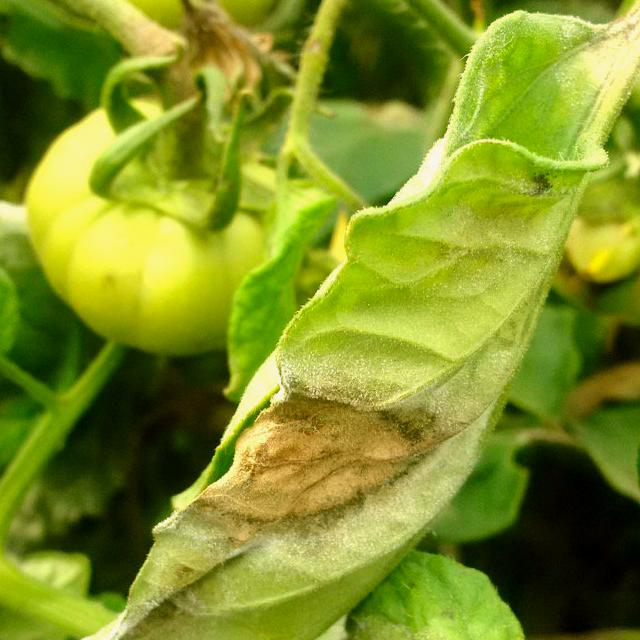Tomato leaf late blight: (0, 0, 640, 640), (219, 549, 541, 640)
